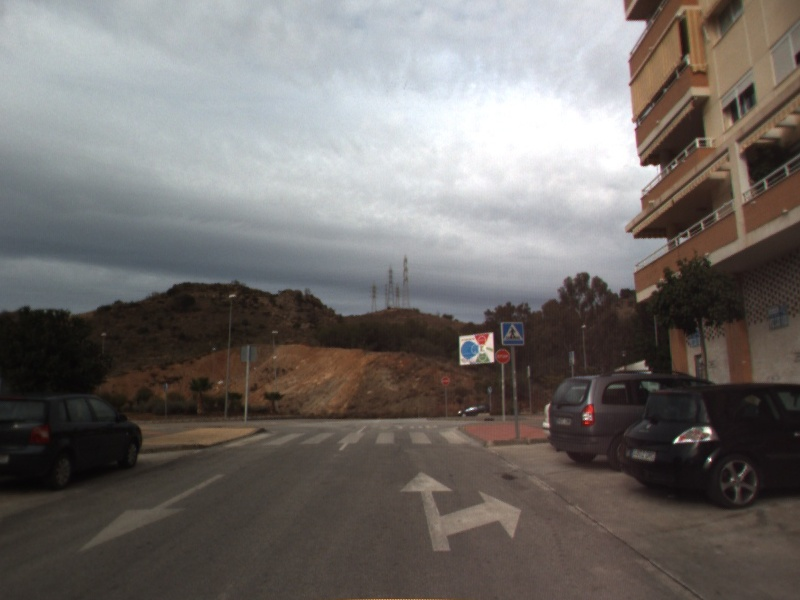STRAIGHT_RIGHT: (398, 469, 523, 553)
